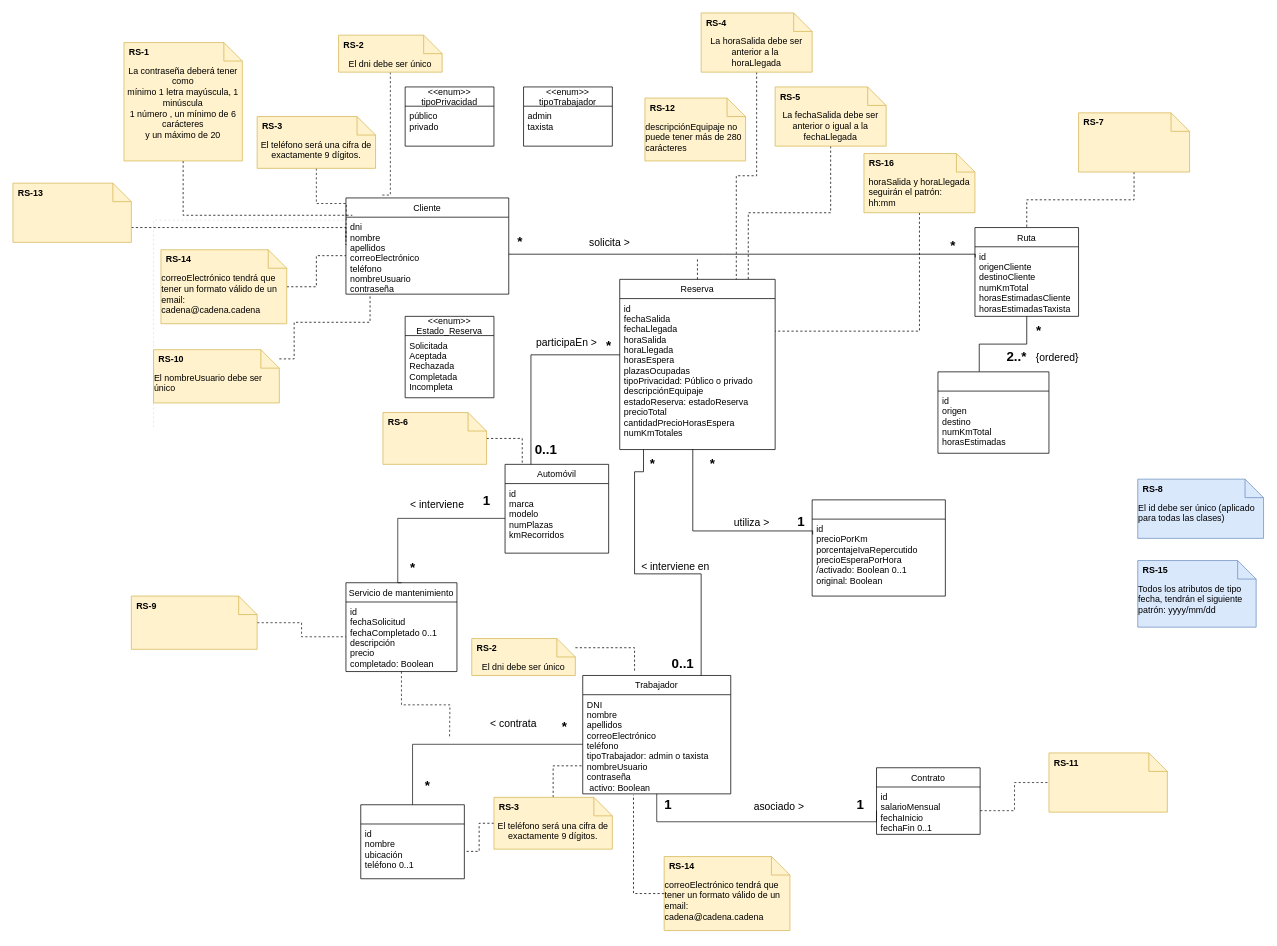
Some shapes in this 1277 by 946 pixel diagram are drawn without their labels. Each missing label, with the box of its shape:
El dni serán exactamente 8 números seguidos de una letra en mayúsculas: (12, 182, 131, 242)
El numPlazas debe ser menor o igual a 7: (382, 412, 487, 464)
El OrigenInicial y el DestinoFinal deben ser distintos: (1078, 112, 1190, 172)
La fechaInicio debe ser anterior o igual a la fechaFin: (1048, 752, 1167, 812)
La fechaSolicitud debe ser anterior o igual a la fechaCompletado: (131, 595, 257, 649)
Taller: (360, 804, 464, 879)
Tarifa: (811, 499, 945, 596)
Trayecto: (937, 371, 1049, 453)
